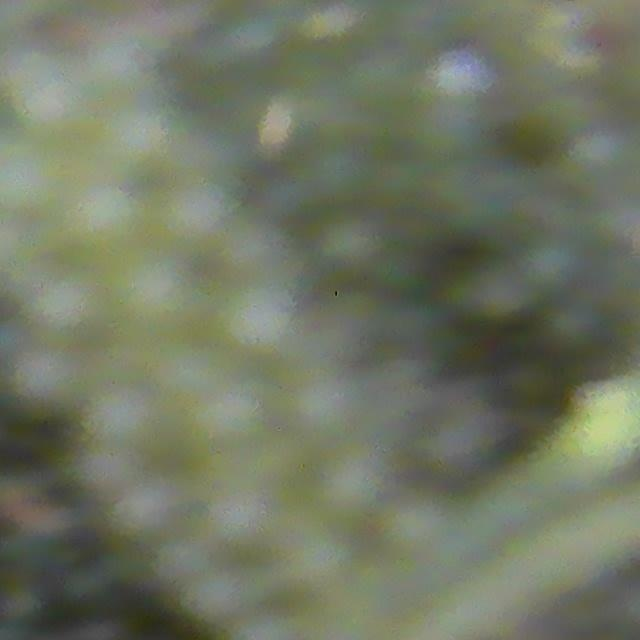SeaGrape: (7, 57, 93, 147), (188, 375, 274, 461), (7, 275, 102, 352), (112, 257, 198, 339), (212, 270, 298, 352), (96, 471, 184, 550), (285, 371, 362, 457), (99, 101, 178, 179), (80, 376, 162, 451), (313, 447, 385, 527), (207, 475, 284, 548), (63, 431, 145, 499), (158, 178, 234, 251), (0, 143, 66, 226), (70, 180, 145, 252), (284, 525, 353, 597), (180, 569, 256, 630), (11, 348, 71, 416)
